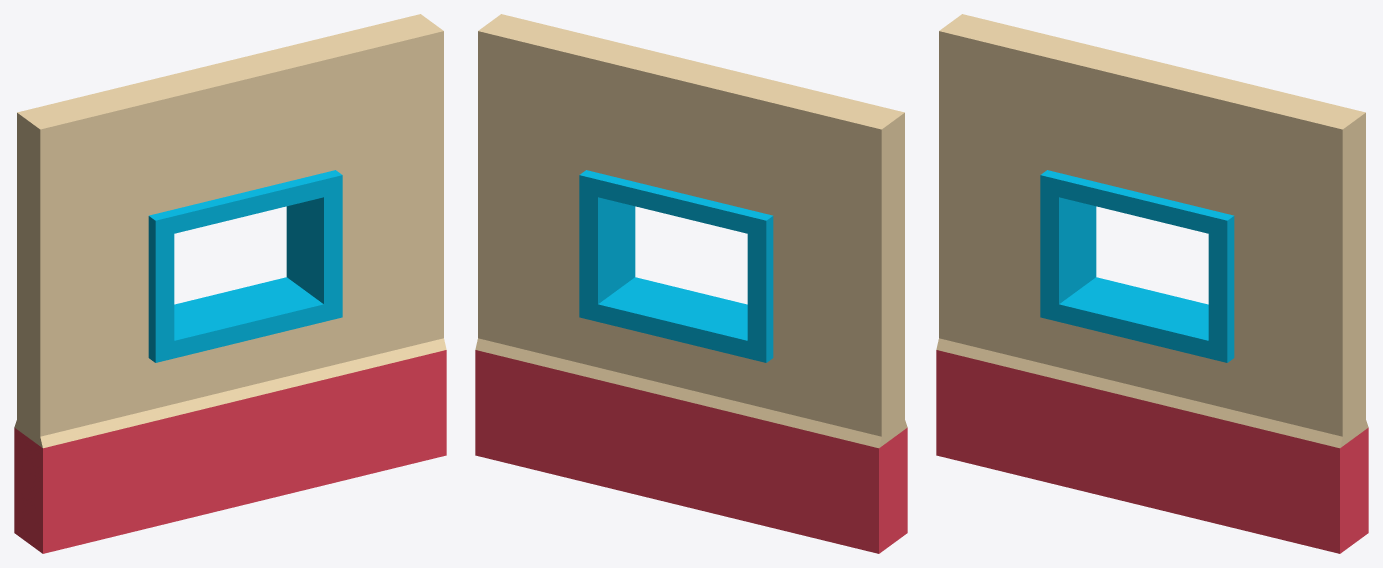
The model's file is Wall2.fbx.
3 renders of one model, left to right at view 1: azimuth 30°, elevation 25°; view 2: azimuth 150°, elevation 25°; view 3: azimuth 330°, elevation 25°, orthographic.
Parts seen in each view (by area): view 1: Wall2; view 2: Wall2; view 3: Wall2.
Boxes of the visible parts, box(x1,y1,x2,y2) form: Wall2: box(14, 14, 446, 553); Wall2: box(475, 14, 907, 553); Wall2: box(936, 14, 1368, 553).
Bounding box in the file's own units: 400 × 400 × 63.78.
